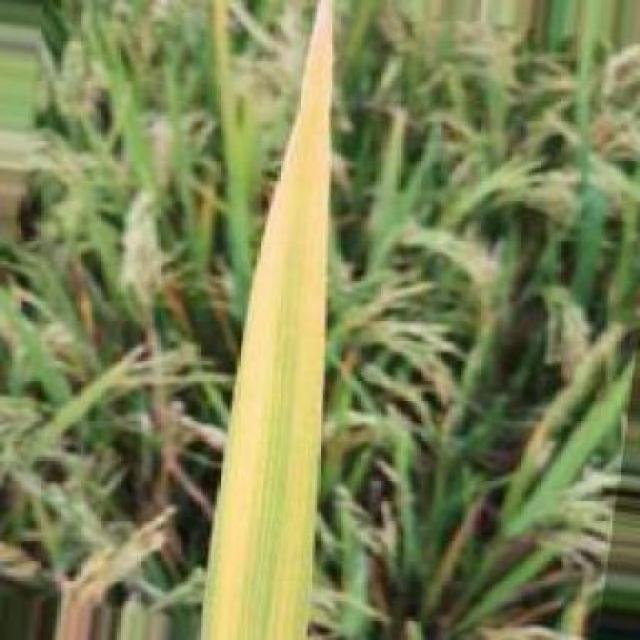Rice Tungro: (195, 2, 330, 638)
